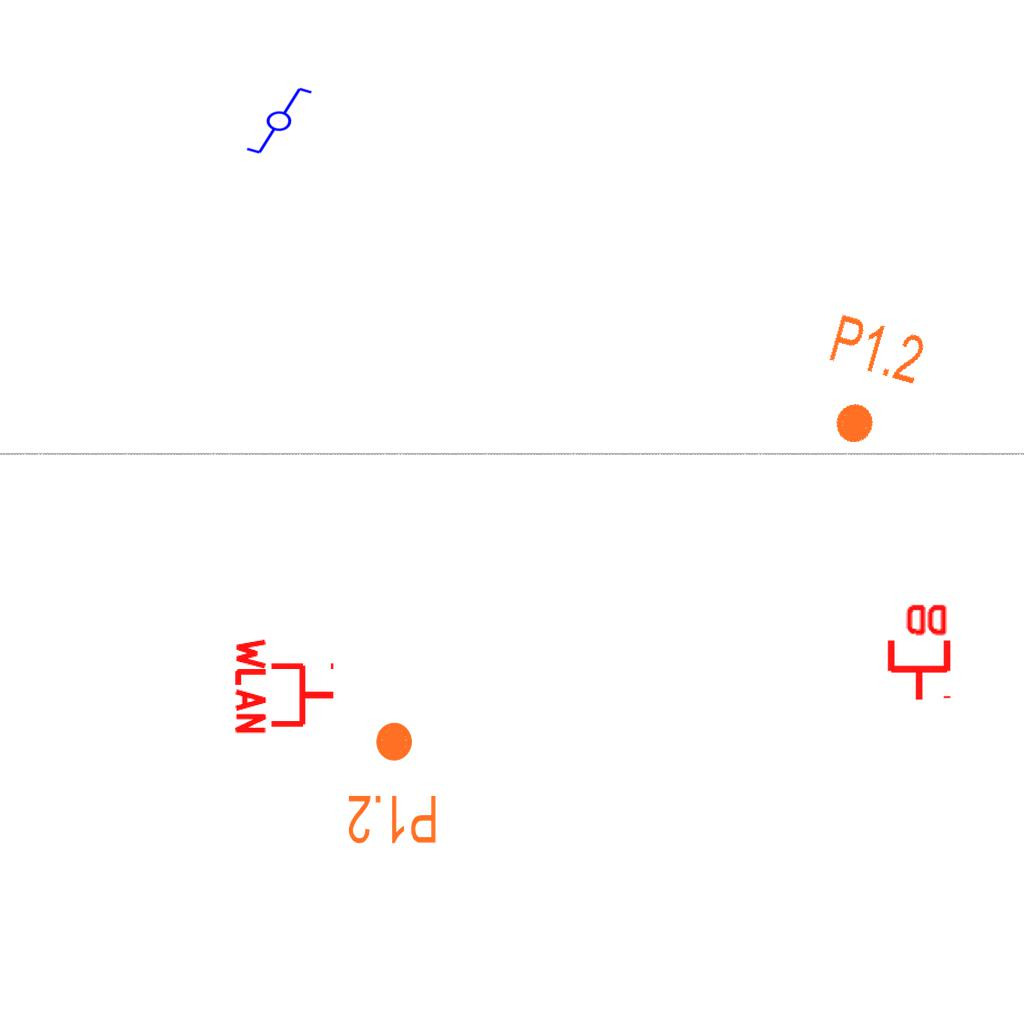Datenanschluss_zweifach: (883, 600, 952, 703)
Downlight_LED_Einbauleuchten_Flur: (805, 309, 930, 459), (346, 719, 439, 847)
WLAN: (233, 634, 338, 738)
Wechselschalter: (236, 84, 314, 156)
